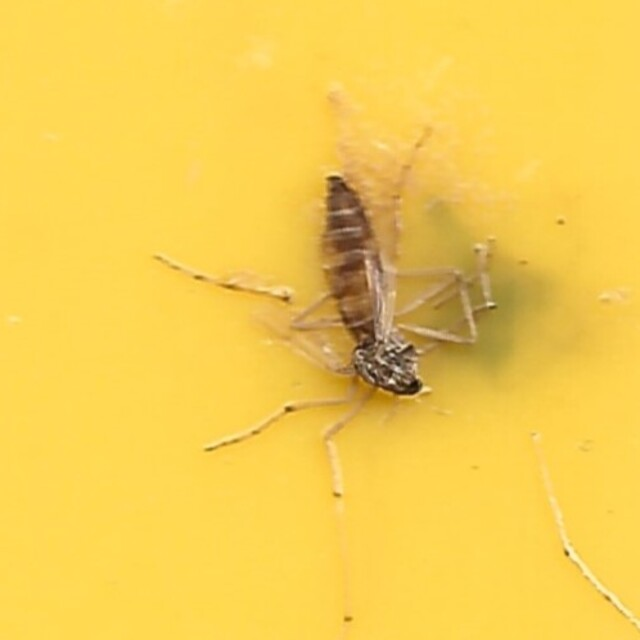Nematocera: (129, 130, 511, 510)
